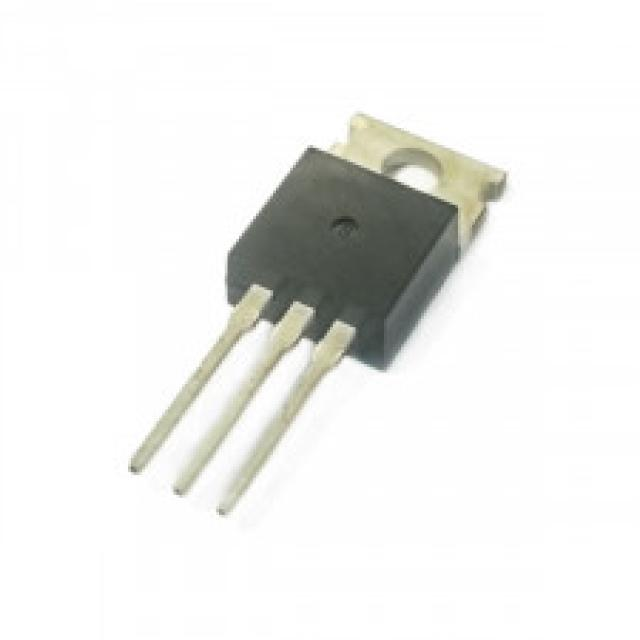Transistor: (132, 112, 502, 523)
